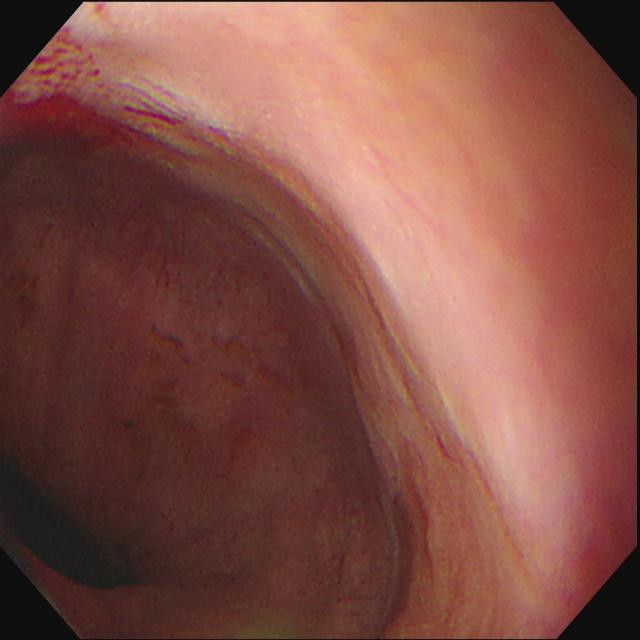C: (2, 45, 168, 160)
E: (2, 446, 148, 603)
